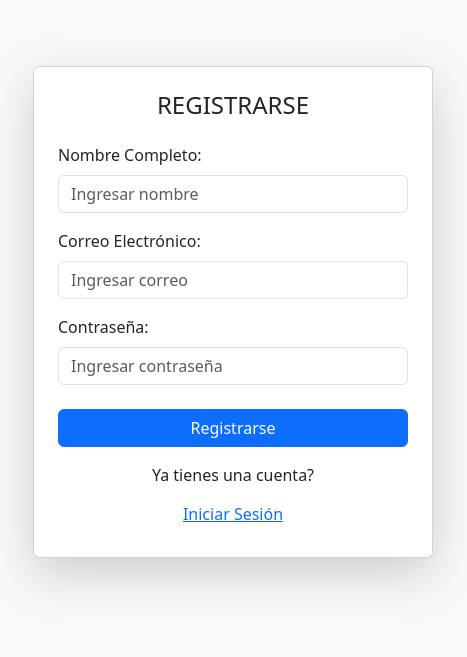
Scenario: Register Component › handles API errors on registration
// Rellenar los campos del formulario
In the field with placeholder "Ingresar nombre": {"x": 233, "y": 194} [58,175,408,213], type "testuser"
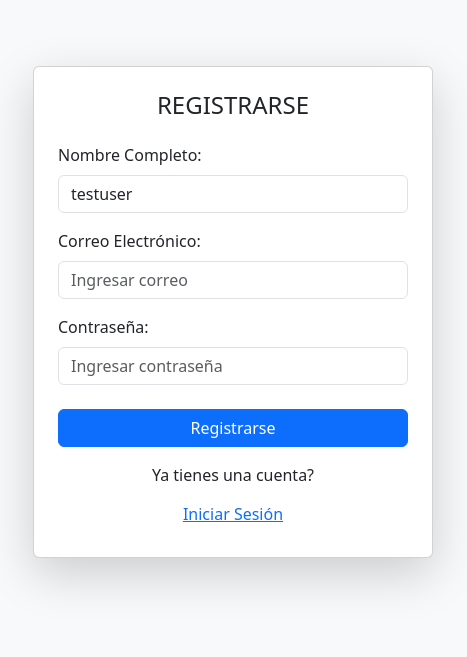
In the field with placeholder "Ingresar correo": {"x": 233, "y": 280} [58,261,408,299], type "existing@example.com"
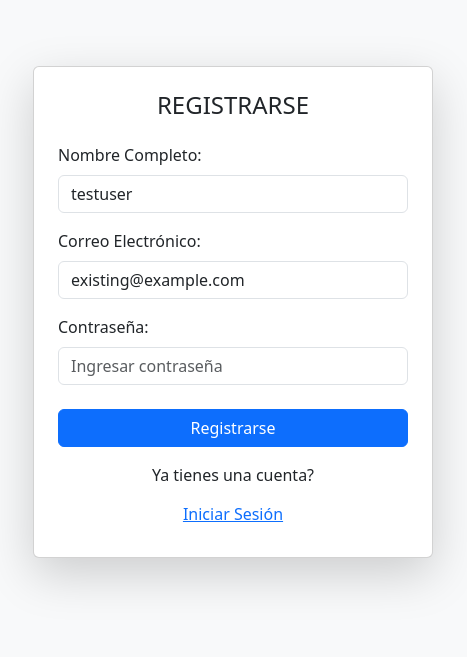
In the password field with placeholder "Ingresar contraseña": {"x": 233, "y": 366} [58,347,408,385], type "pass"
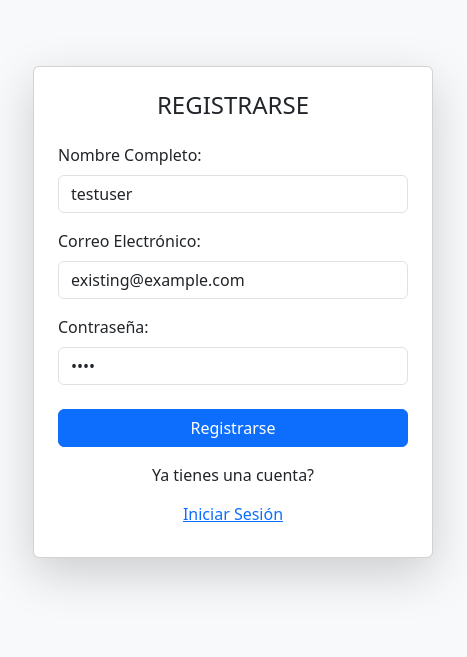
// Simula el clic en el botón de registro
Click the button "Registrarse": {"x": 233, "y": 428} [58,409,408,447]
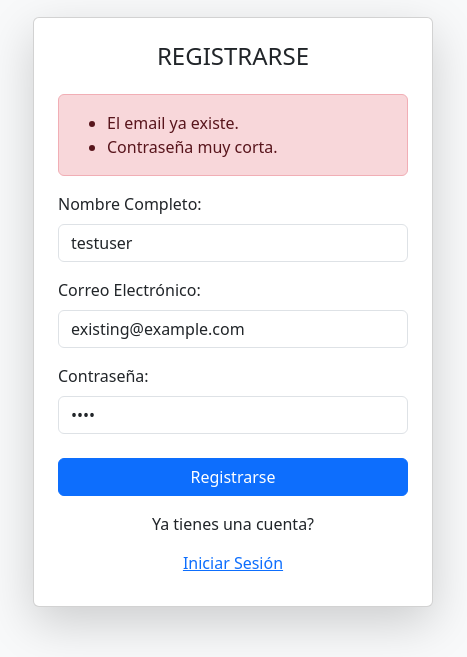
Result: the list item "El email ya existe." is shown at [107,112,239,134]
Result: the list item "Contraseña muy corta." is shown at [107,136,278,158]
